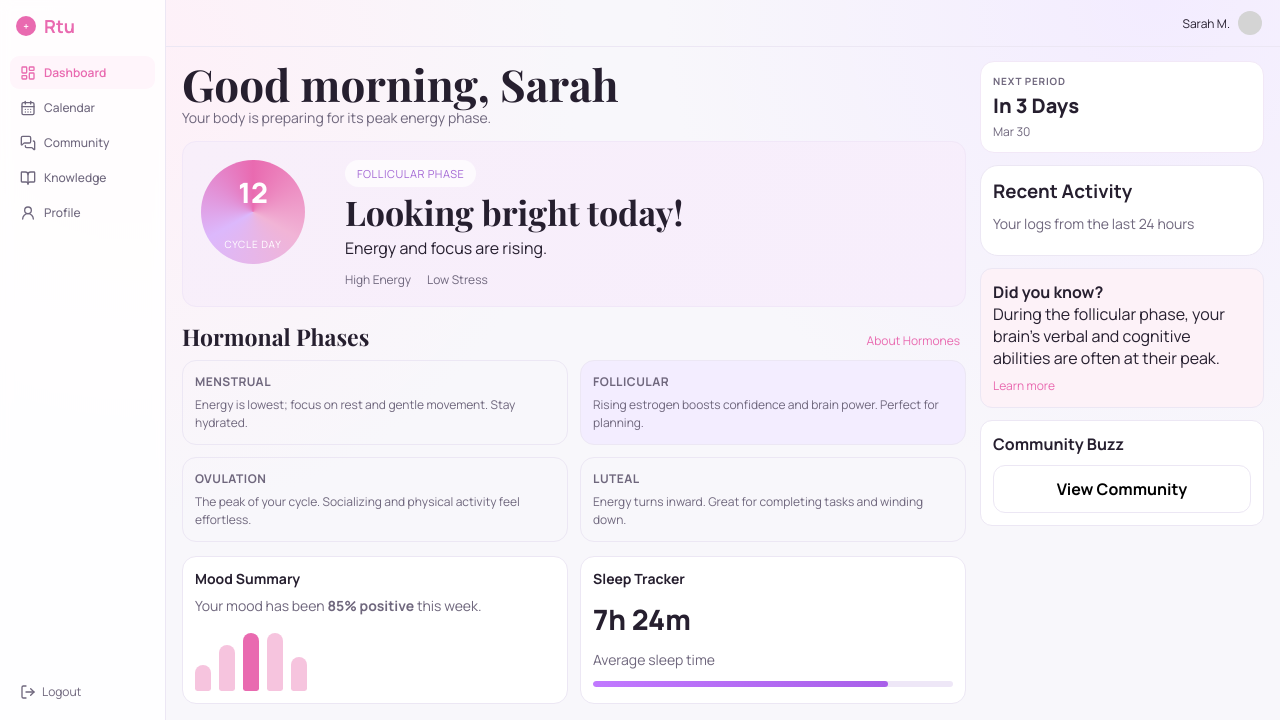
Test: happy path flow › navigates dashboard to calendar to community to knowledge
The image size is (1280, 720).
Check: the heading "Good morning, Sarah" is shown, box 182,54 -> 618,113
Click the link "Calendar" at (58, 108), box 20,99 -> 95,116
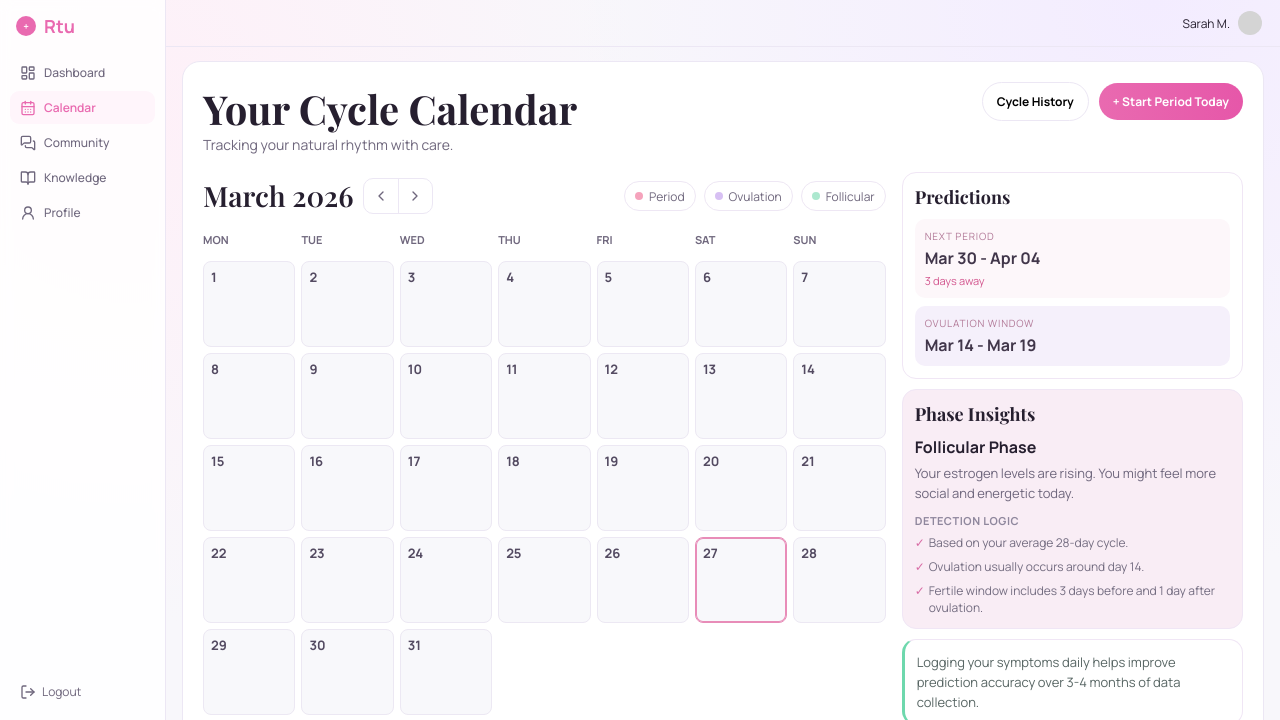
Check: the heading "Your Cycle Calendar" is shown, box 203,82 -> 577,135
Click the link "Community" at (65, 142), box 20,134 -> 109,151
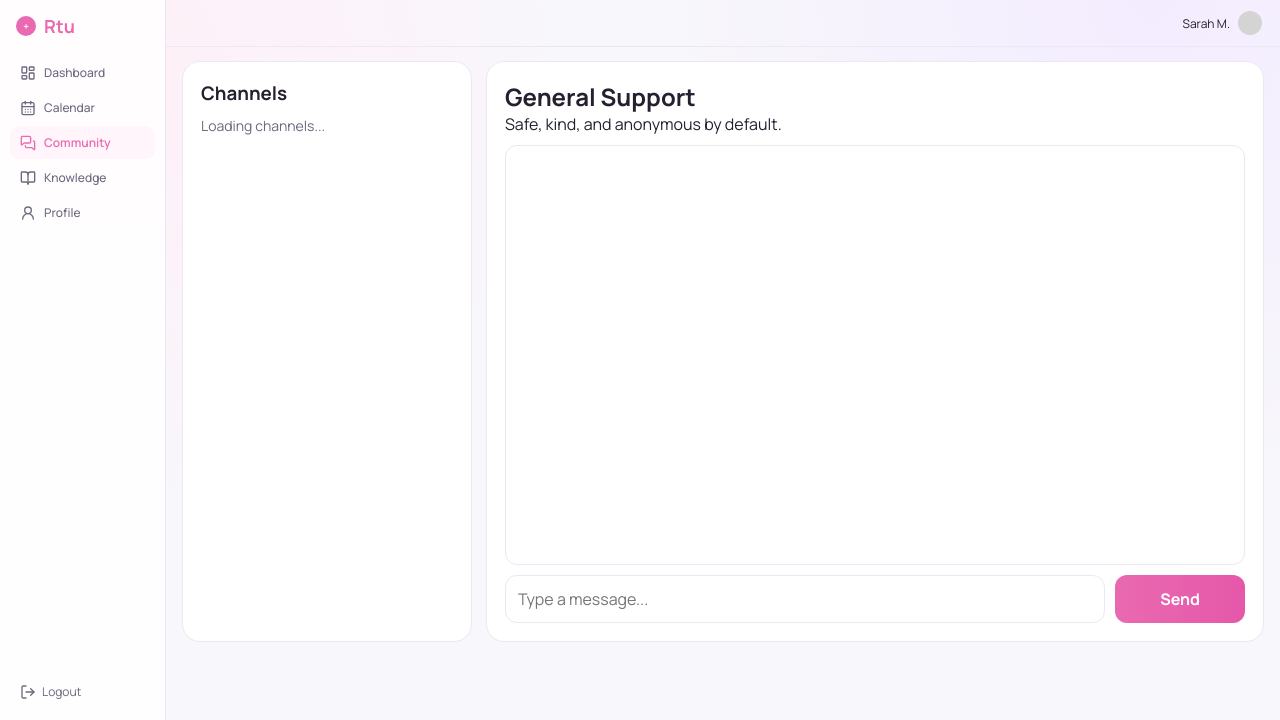
Type "Happy path" into the field with placeholder "Type a message..." at (805, 599), box 505,575 -> 1105,623
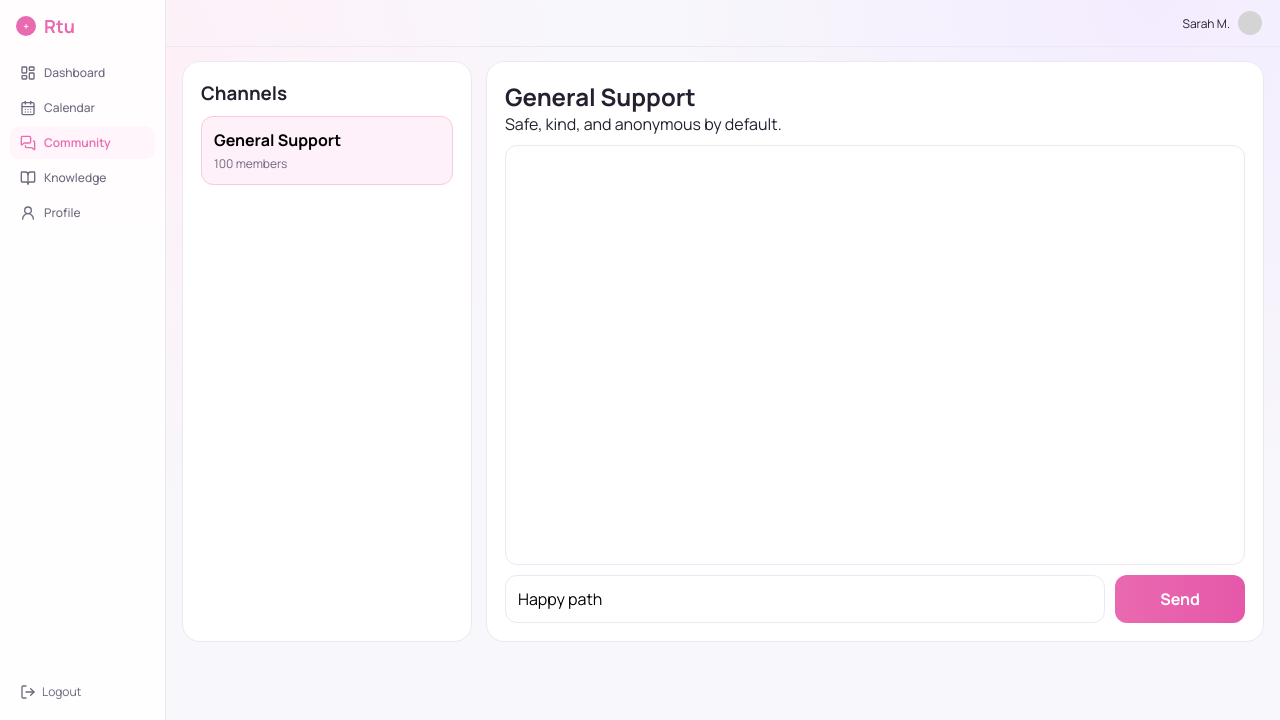
Click the button "Send" at (1180, 599), box 1115,575 -> 1245,623
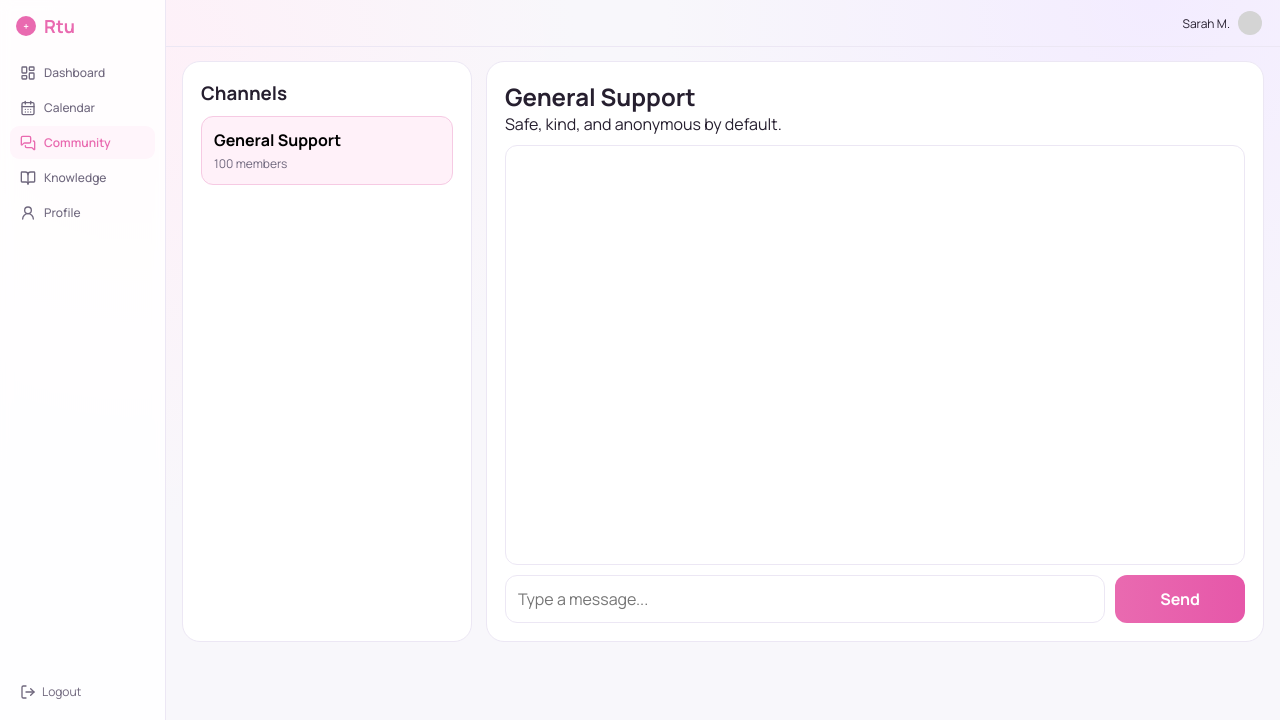
Click the link "Knowledge" at (63, 178), box 20,169 -> 106,186
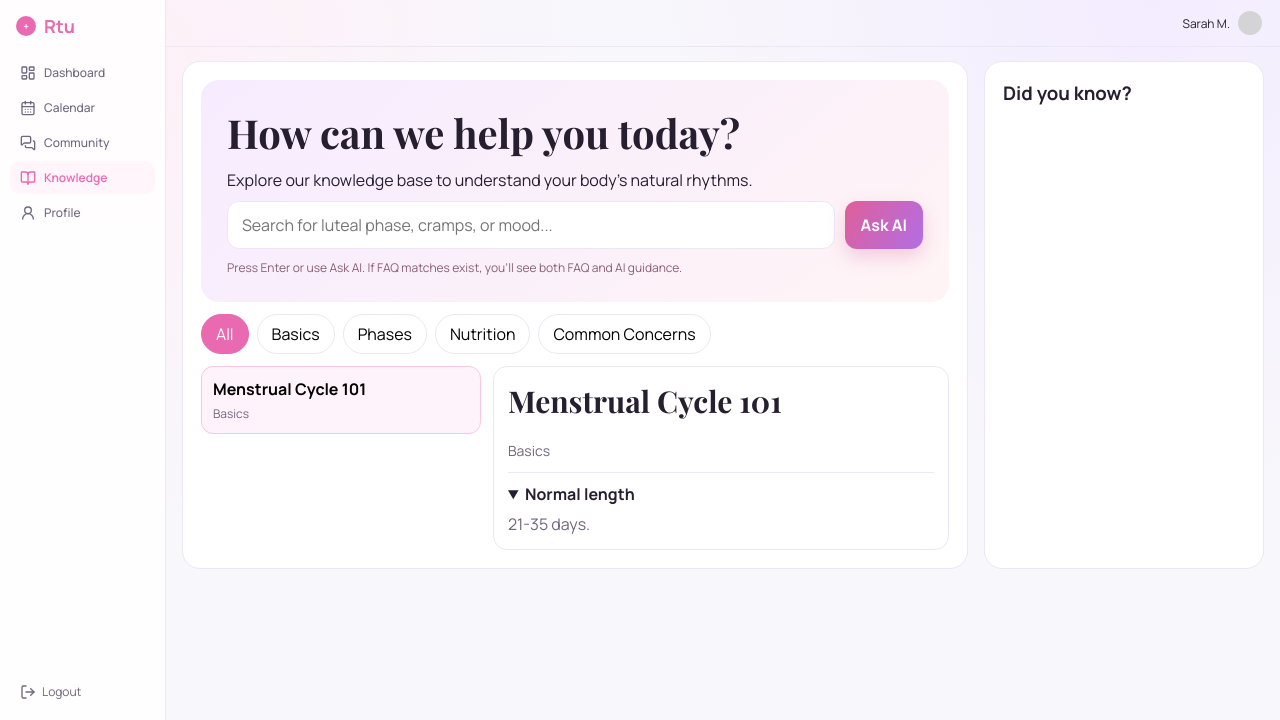
Check: the heading "How can we help you today?" is shown, box 227,106 -> 740,159
